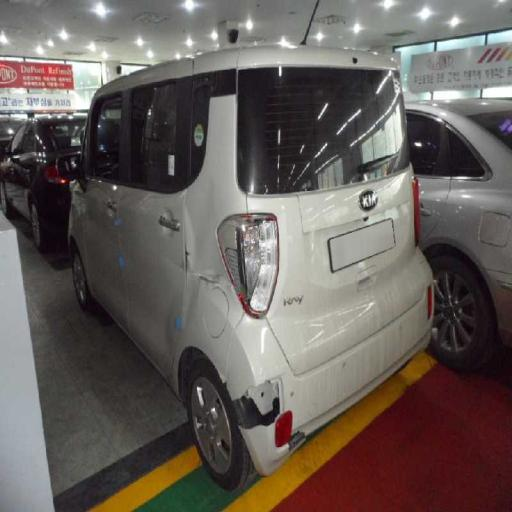broken: (223, 369, 290, 467)
dent: (158, 212, 222, 360)
scratch: (258, 197, 389, 367)
